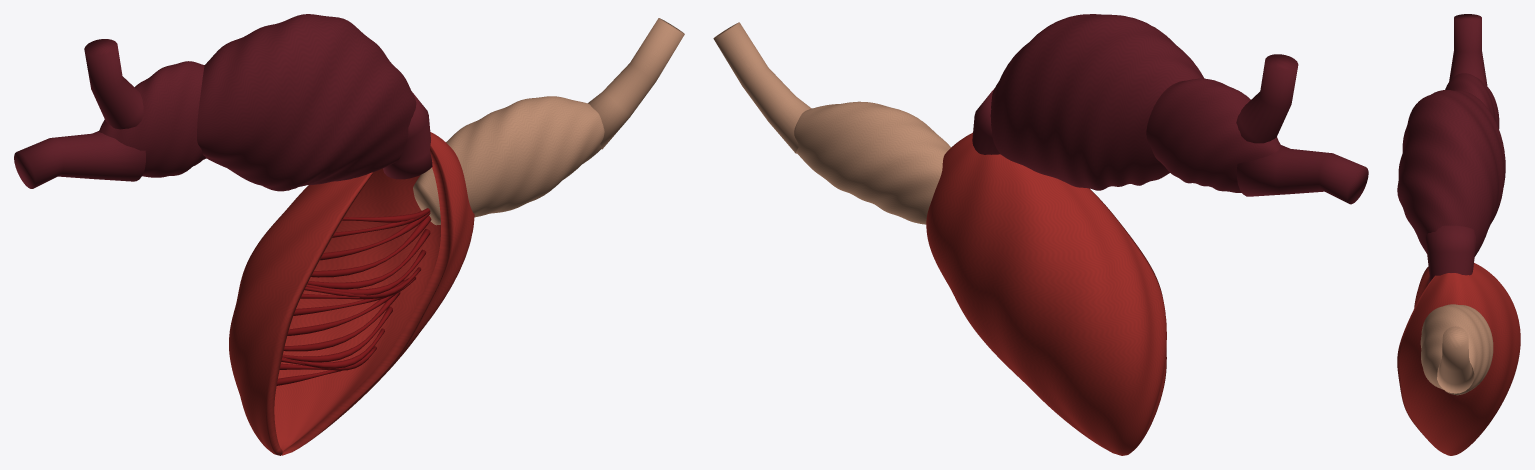
Rendered from teleost_heart_cutaway.glb.
3 renders of one model, left to right at view 1: azimuth 30°, elevation 25°; view 2: azimuth 150°, elevation 25°; view 3: azimuth 270°, elevation 25°, orthographic. The views are drawn at different scales.
Parts seen in each view (by area): view 1: Ventricle_Cutaway, Atrium, BulbusArteriosus, SinusVenosus, Inflow, Outflow, Inflow_Dorsal, AtrioventricularCanal, Trabecula_11, Trabecula_12, Trabecula_05, Trabecula_04; view 2: Ventricle_Cutaway, Atrium, BulbusArteriosus, SinusVenosus, Inflow, Outflow, Inflow_Dorsal, AtrioventricularCanal; view 3: Atrium, Ventricle_Cutaway, BulbusArteriosus, AtrioventricularCanal, Outflow, Inflow_Dorsal, SinusVenosus.
Part boxes in pixels (<box>): Ventricle_Cutaway: <box>229,132,474,455</box>; Atrium: <box>197,14,416,191</box>; BulbusArteriosus: <box>413,96,604,225</box>; SinusVenosus: <box>99,61,206,177</box>; Inflow: <box>14,131,145,188</box>; Outflow: <box>588,18,684,149</box>; Inflow_Dorsal: <box>84,39,143,129</box>; AtrioventricularCanal: <box>383,92,432,179</box>; Trabecula_11: <box>307,229,430,289</box>; Trabecula_12: <box>311,215,431,277</box>; Trabecula_05: <box>283,291,400,351</box>; Trabecula_04: <box>282,306,392,362</box>; Ventricle_Cutaway: <box>926,132,1166,455</box>; Atrium: <box>990,14,1204,190</box>; BulbusArteriosus: <box>794,101,950,224</box>; SinusVenosus: <box>1146,78,1281,192</box>; Inflow: <box>1236,145,1368,204</box>; Outflow: <box>713,22,811,153</box>; Inflow_Dorsal: <box>1236,54,1298,143</box>; AtrioventricularCanal: <box>972,88,999,154</box>; Atrium: <box>1397,90,1505,256</box>; Ventricle_Cutaway: <box>1397,263,1520,455</box>; BulbusArteriosus: <box>1420,304,1493,395</box>; AtrioventricularCanal: <box>1425,225,1475,283</box>; Outflow: <box>1437,326,1474,393</box>; Inflow_Dorsal: <box>1449,14,1487,85</box>; SinusVenosus: <box>1445,73,1499,128</box>.
Bounding box in the file's own units: 1.11 × 0.7241 × 0.2194.
4 materials, 4 textured.
